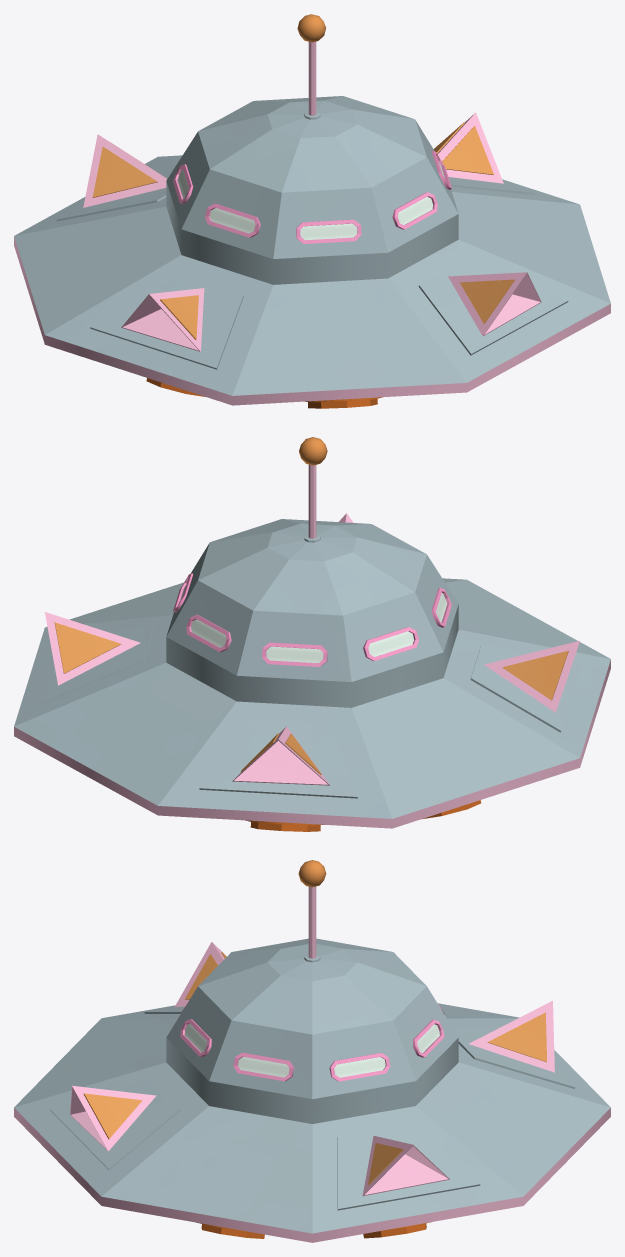
The model's file is UFO.FBX.
The picture shows the model from 3 angles, top to bottom: view 1: azimuth 30°, elevation 25°; view 2: azimuth 150°, elevation 25°; view 3: azimuth 270°, elevation 25°; orthographic projection. The views are drawn at different scales.
Visible parts, largest first — view 1: SM_UFO; view 2: SM_UFO; view 3: SM_UFO.
Boxes of the visible parts, x1=… form: SM_UFO: x1=14, y1=14, x2=610, y2=408; SM_UFO: x1=14, y1=437, x2=610, y2=831; SM_UFO: x1=14, y1=860, x2=610, y2=1242.
Bounding box in the file's own units: 376 × 246 × 376.
